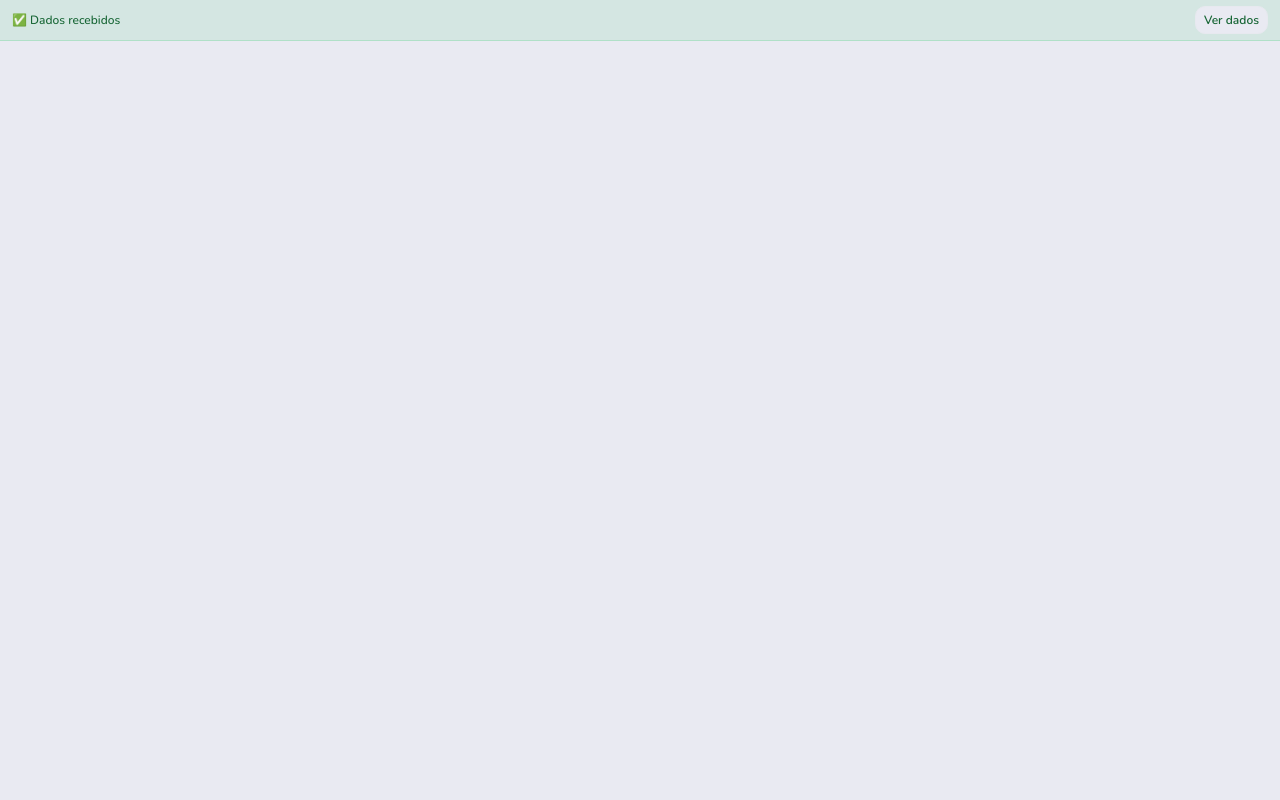
ClientDataBar › mostra Dados recebidos e abre os dados formatados
Expected: the text "✅ Dados recebidos" is shown, x1=12 y1=12 x2=120 y2=28
Click the button "Ver dados" at [1232, 20], box x1=1195 y1=6 x2=1268 y2=34
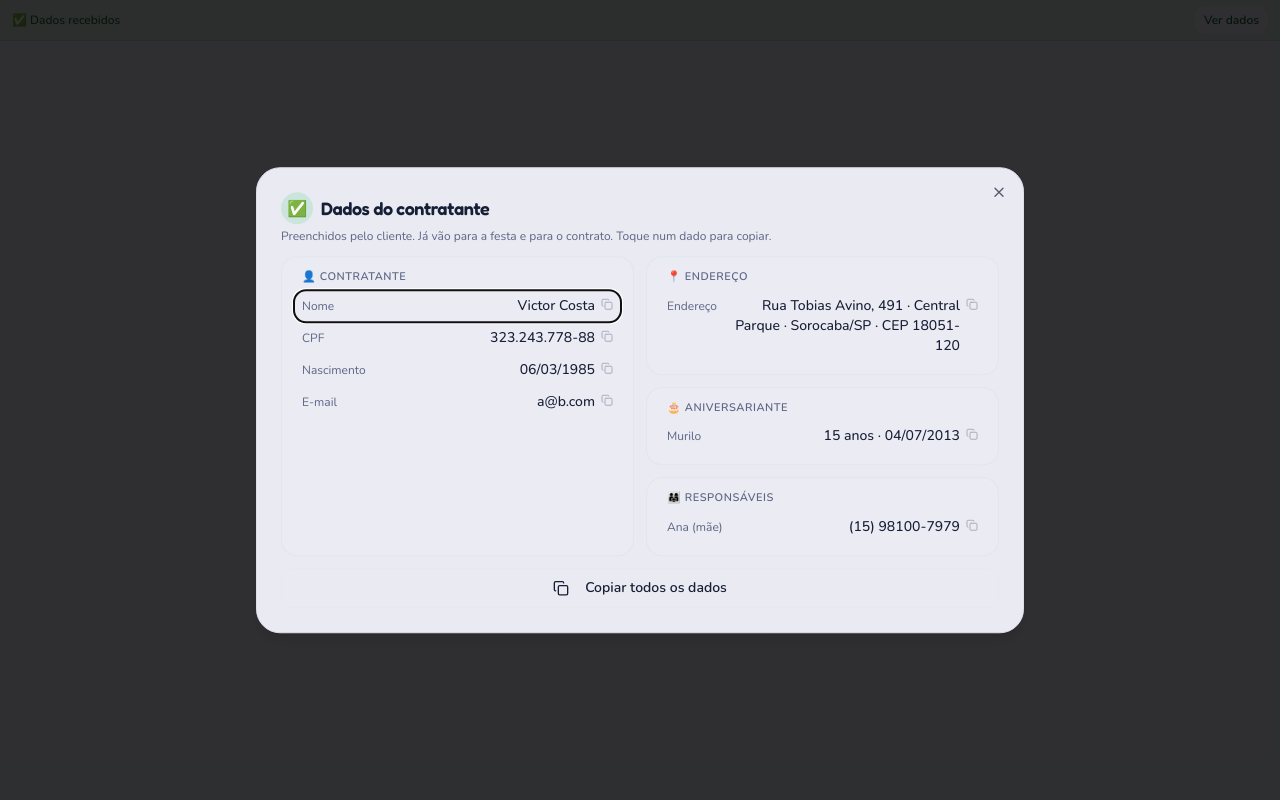
Result: the text "06/03/1985" is shown at x1=520 y1=360 x2=595 y2=380
Result: the text "15 anos · 04/07/2013" is shown at x1=824 y1=426 x2=960 y2=446
Result: the text "(15) 98100-7979" is shown at x1=849 y1=517 x2=960 y2=537
